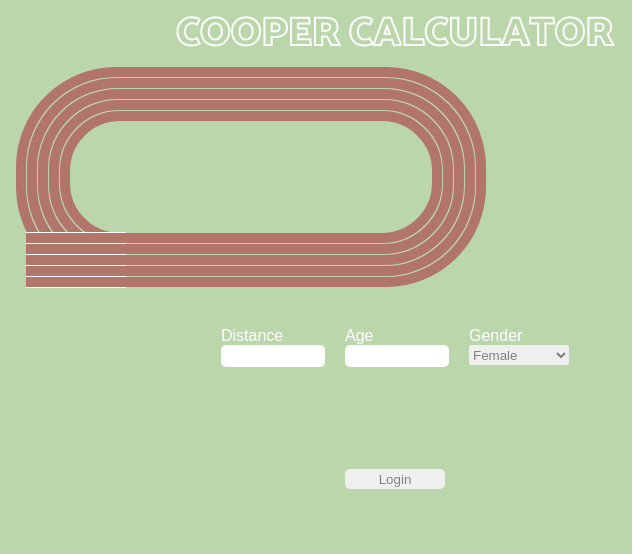
User can log in › with invalid credentials
Click the button with id "login" at x=395, y=479, box 345,469 -> 445,489
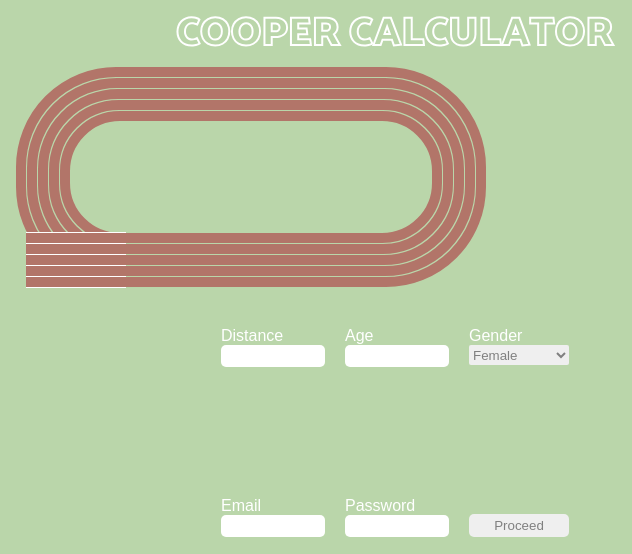
Type "user@mail.com" into the field with id "email" at x=273, y=526, box 221,515 -> 325,537
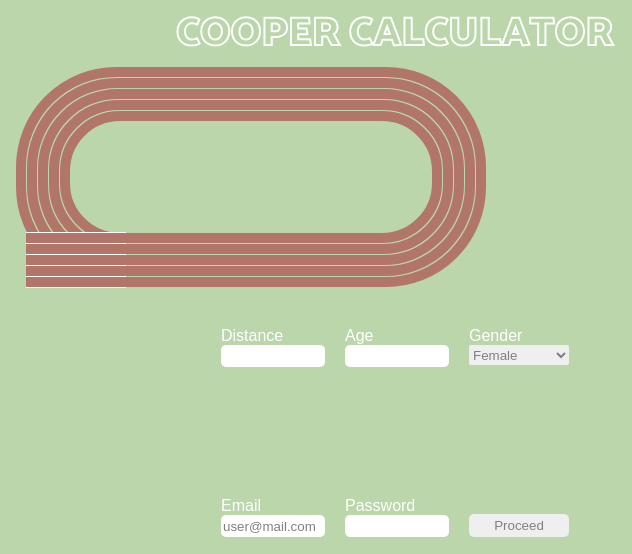
Type "wrongpassword" into the field below "Password" at x=397, y=526, box 345,515 -> 449,537
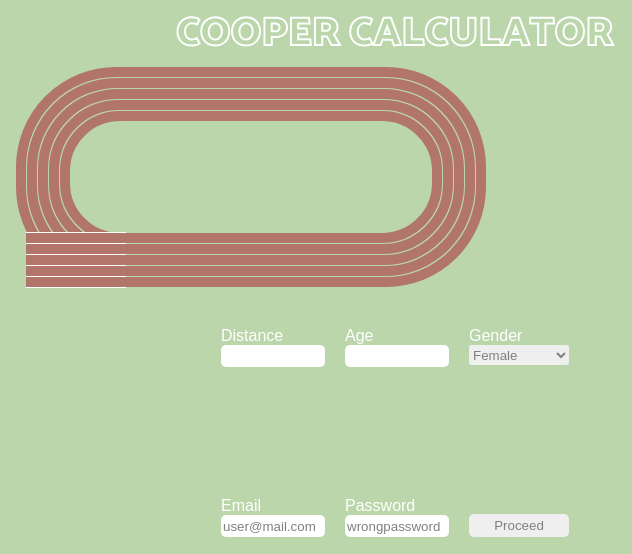
Click the button "Proceed" at x=519, y=526, box 469,514 -> 569,537
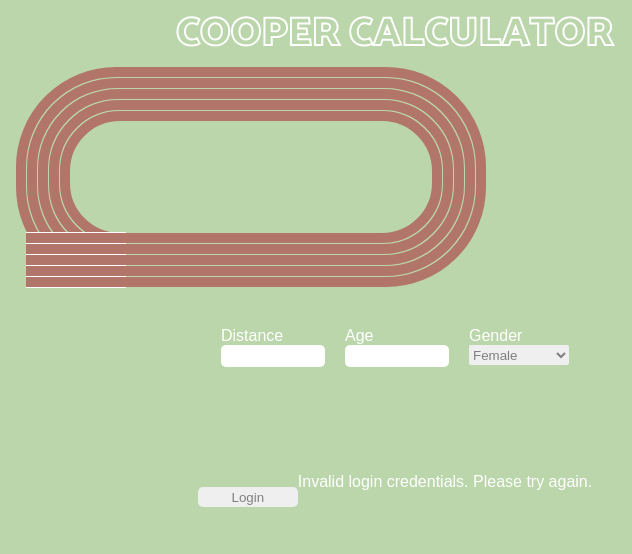
Expected: the text "Invalid login credentials. Please try again." is shown, 298,473 -> 592,491
